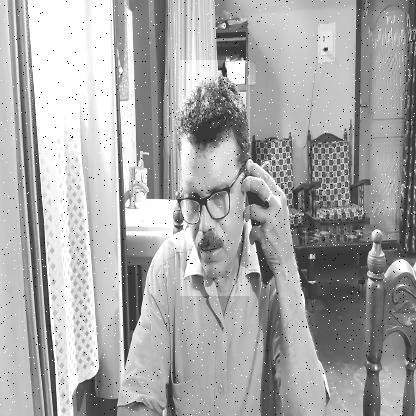Distracted: (180, 60, 250, 296)
